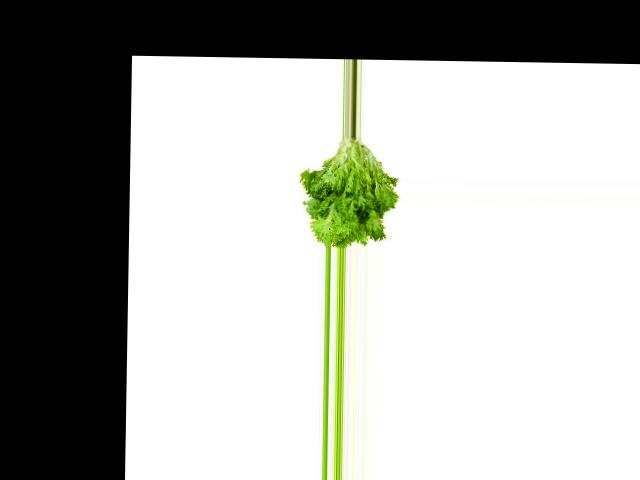lettuce: (298, 135, 404, 248)
